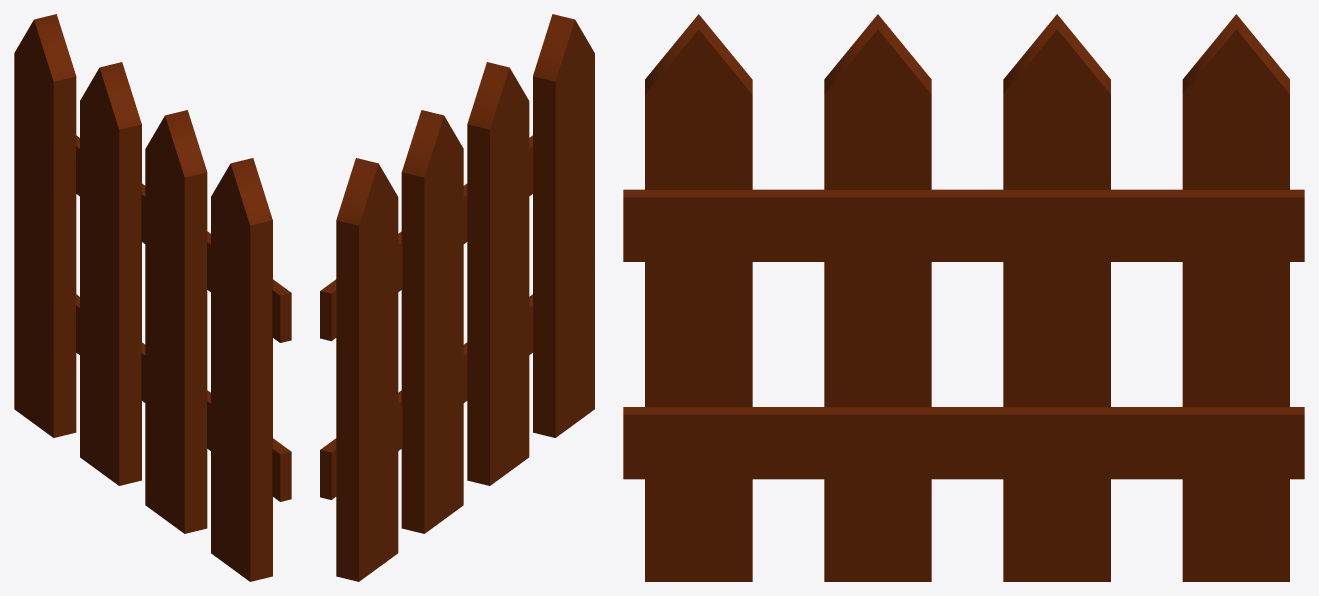
The model's file is WallX2.FBX.
3 views of the same model, side by side, from view 1: azimuth 30°, elevation 25°; view 2: azimuth 150°, elevation 25°; view 3: azimuth 270°, elevation 25° (orthographic). The views are drawn at different scales.
Parts seen in each view (by area): view 1: Body; view 2: Body; view 3: Body.
Part boxes in pixels (x1,y1,x2,y2): Body: [14, 14, 291, 581]; Body: [320, 14, 594, 581]; Body: [623, 14, 1304, 581].
Bounding box in the file's own units: 0.1479 × 1.7 × 1.9.
